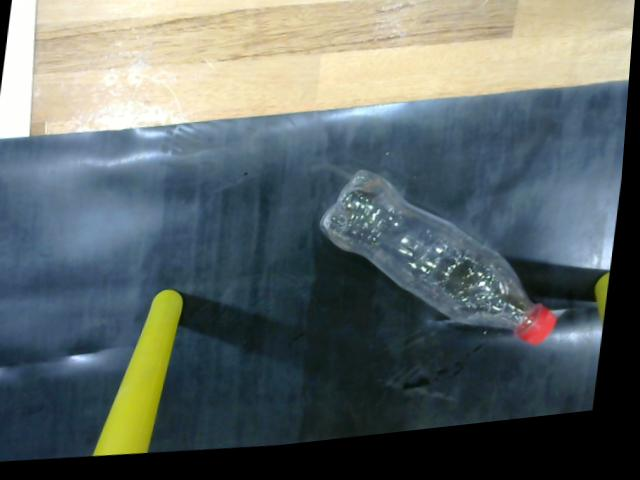bottle: (311, 165, 579, 375)
